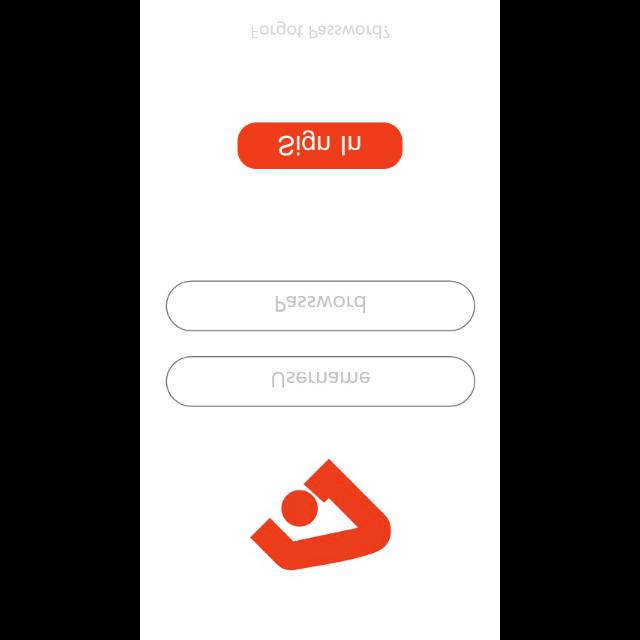image: (250, 458, 392, 570)
input: (166, 356, 476, 406), (166, 280, 476, 330)
text: (252, 20, 390, 40), (275, 294, 365, 314), (274, 371, 371, 387)
textbutton: (238, 122, 404, 168)
